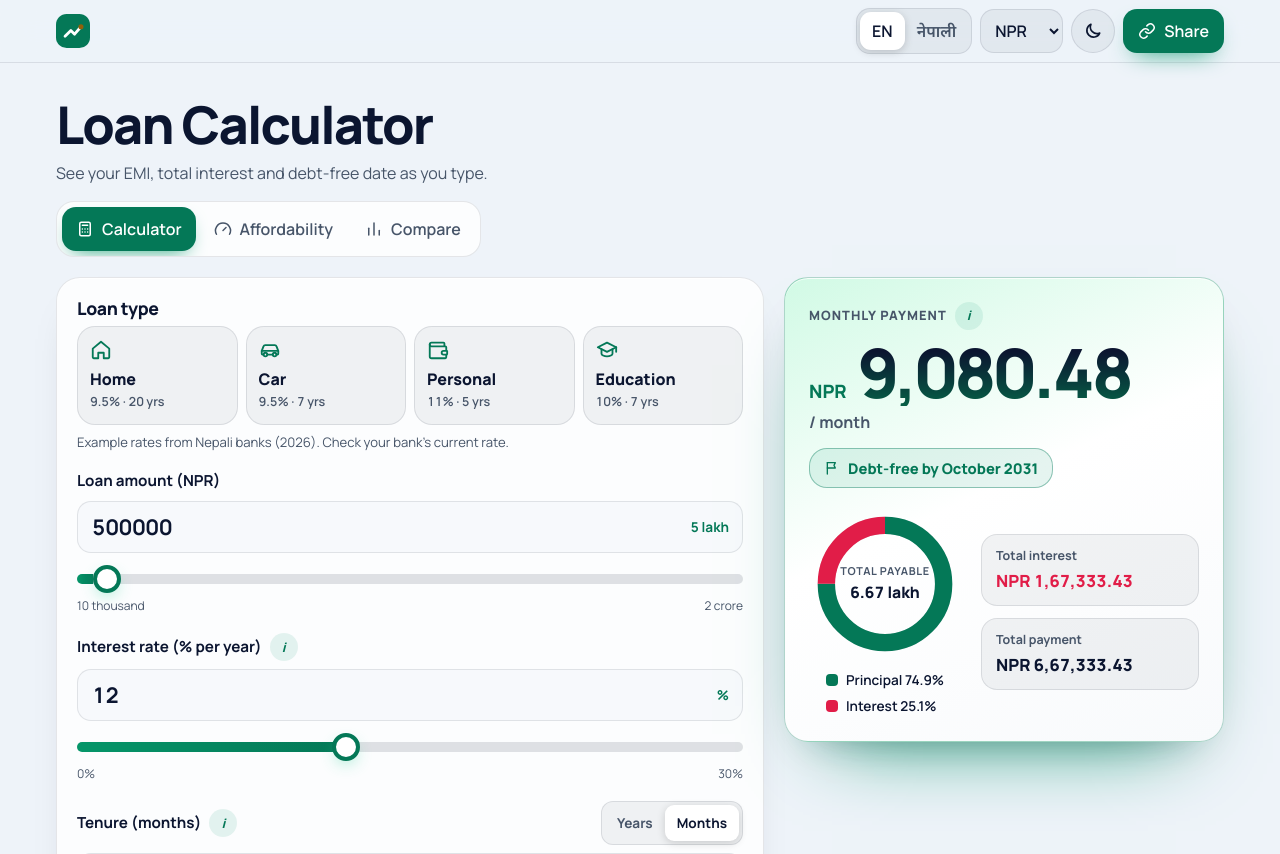
Test: Loan amount (NPR) number field and slider stay in sync
The width and height of the screenshot is (1280, 854).
Replace the text in the field labelled "Loan amount (NPR)" with "250000" at (410, 527), box top-left (77, 501), bottom-right (743, 553)
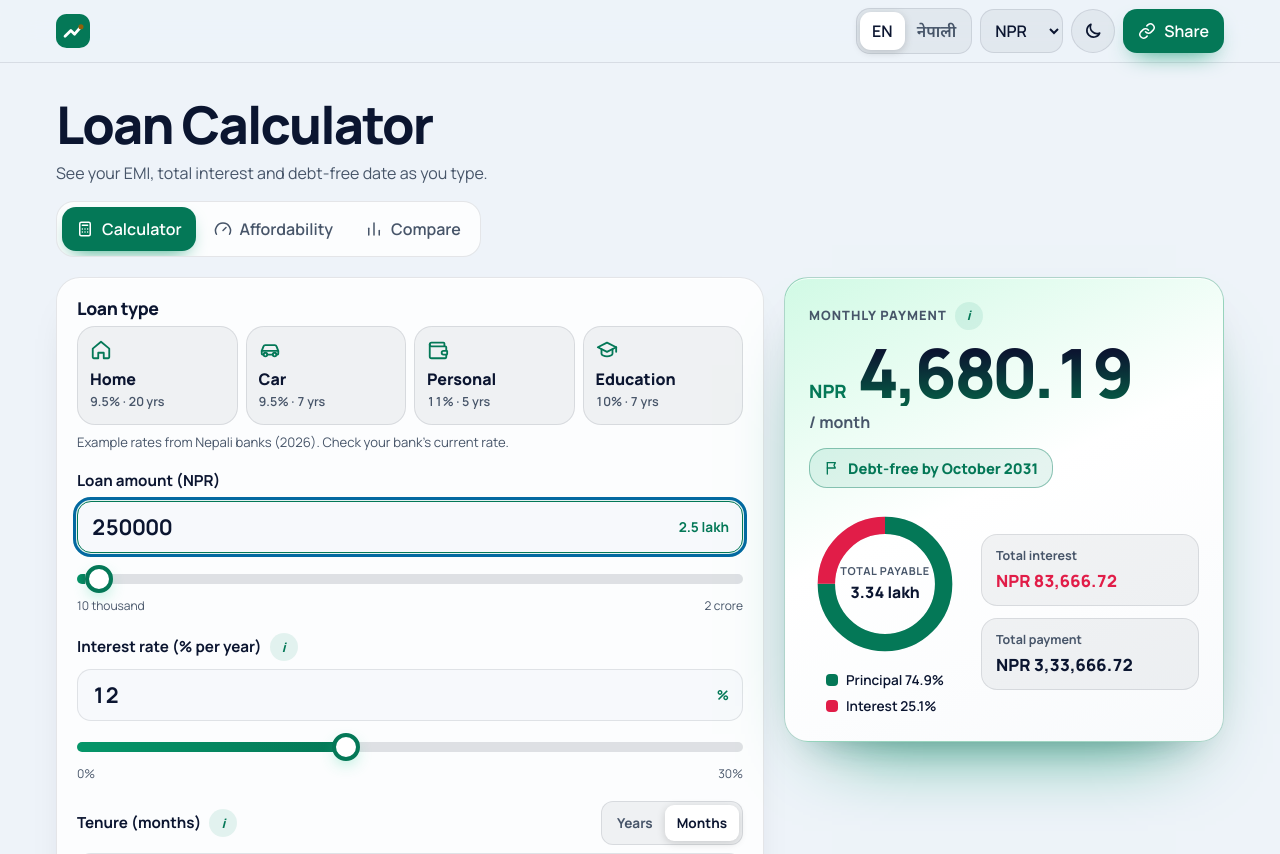
Result: the slider named "Loan amount slider" holds "250000"
Set the slider named "Loan amount slider" to "750000" at (109, 579), box top-left (77, 557), bottom-right (743, 601)
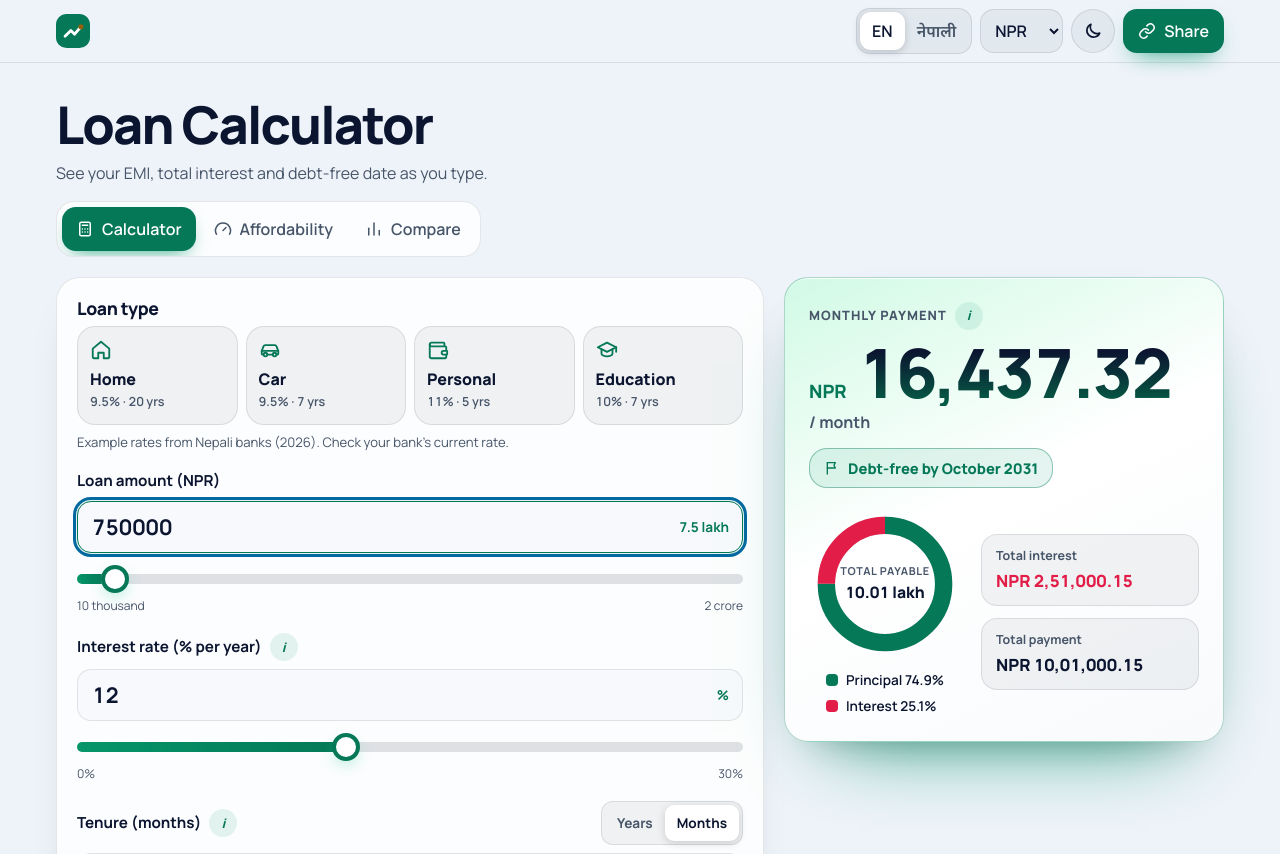
Result: the field labelled "Loan amount (NPR)" holds "750000" at top-left (77, 501), bottom-right (743, 553)
